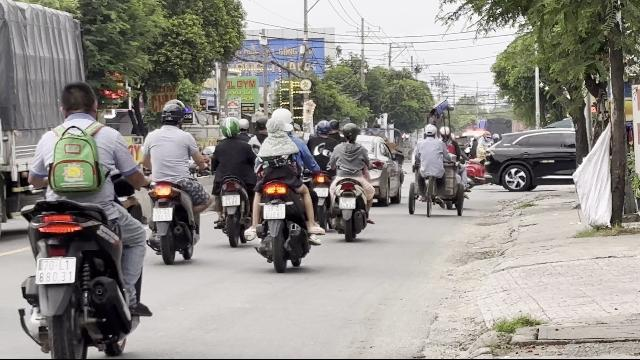helmet: (158, 98, 186, 128), (268, 118, 292, 140), (220, 116, 240, 138), (269, 107, 293, 125), (340, 122, 360, 142)
licenseplate: (36, 258, 76, 284), (263, 204, 285, 220), (153, 207, 173, 221), (222, 195, 240, 206), (339, 198, 355, 208)
motorcyclist: (12, 79, 160, 356), (252, 105, 321, 270), (140, 99, 204, 264), (207, 115, 259, 244), (324, 120, 376, 240)
nohelmet: (57, 81, 99, 121)
